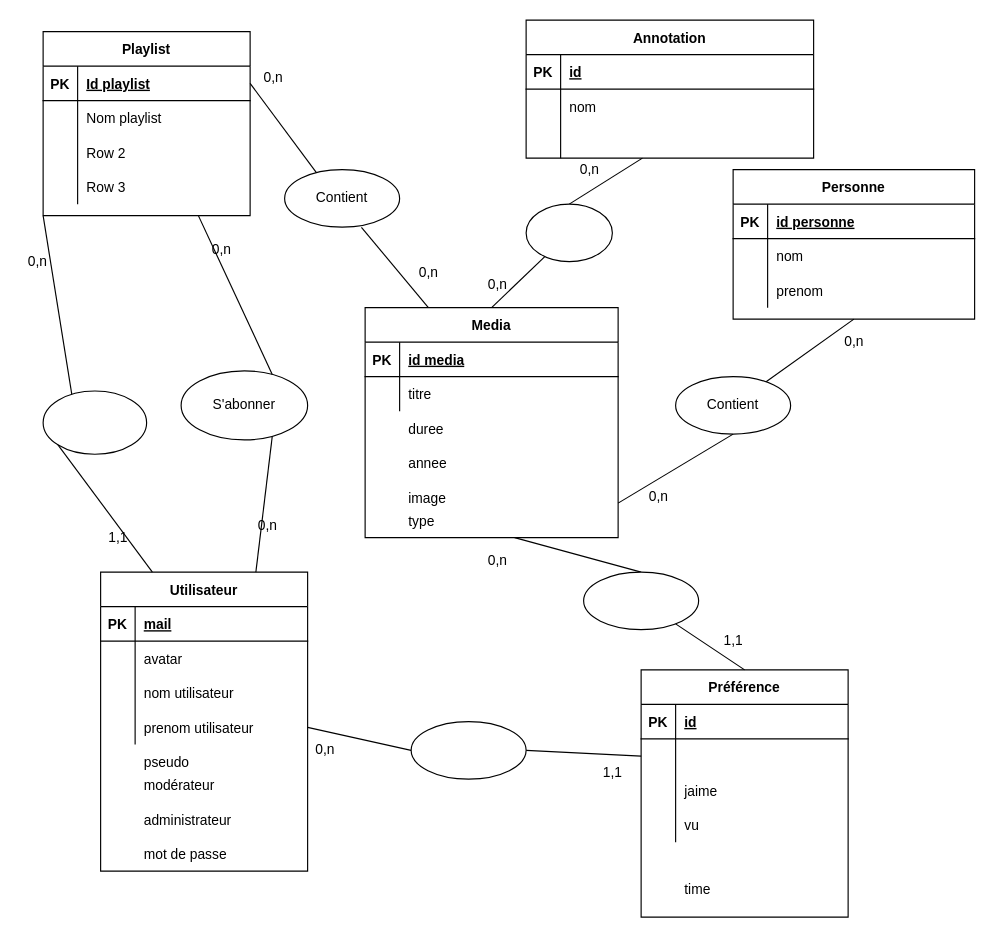
Some shapes in this 995 by 937 pixel diagram are drawn without their labels. The shapes that lost their labels are listed below. From the top down, each one's centre as x and y in pixels, then its label:
the point at 568,232: Annoté
the point at 94,422: Créer
the point at 640,600: Concerne
the point at 468,749: Avoir
